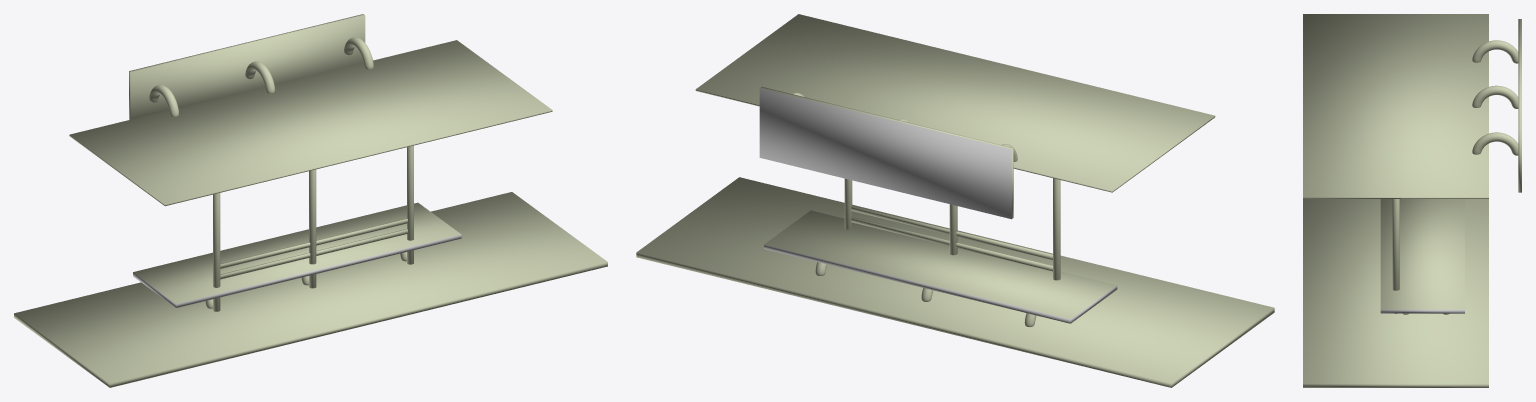
The model's file is bus_stop.obj.
3 views of the same model, side by side, from view 1: azimuth 30°, elevation 25°; view 2: azimuth 150°, elevation 25°; view 3: azimuth 270°, elevation 25° (orthographic). The views are drawn at different scales.
Parts seen in each view (by area): view 1: Cylinder2, Cube1; view 2: Cylinder2, Cube1; view 3: Cylinder2, Cube1.
Boxes of the visible parts, left/top/right/bottom form: Cylinder2: left=69, top=14, right=552, bottom=311; Cube1: left=14, top=192, right=607, bottom=387; Cylinder2: left=695, top=14, right=1215, bottom=326; Cube1: left=636, top=177, right=1274, bottom=387; Cylinder2: left=1303, top=14, right=1521, bottom=314; Cube1: left=1303, top=199, right=1488, bottom=387.
Size of the model in its own units: 6 by 2.33 by 2.35.
